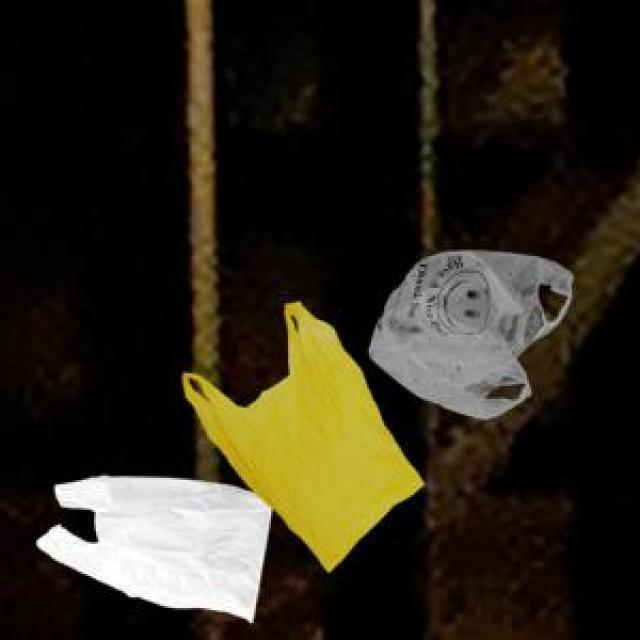waste: (182, 302, 422, 571), (370, 252, 572, 418), (38, 476, 270, 619)
